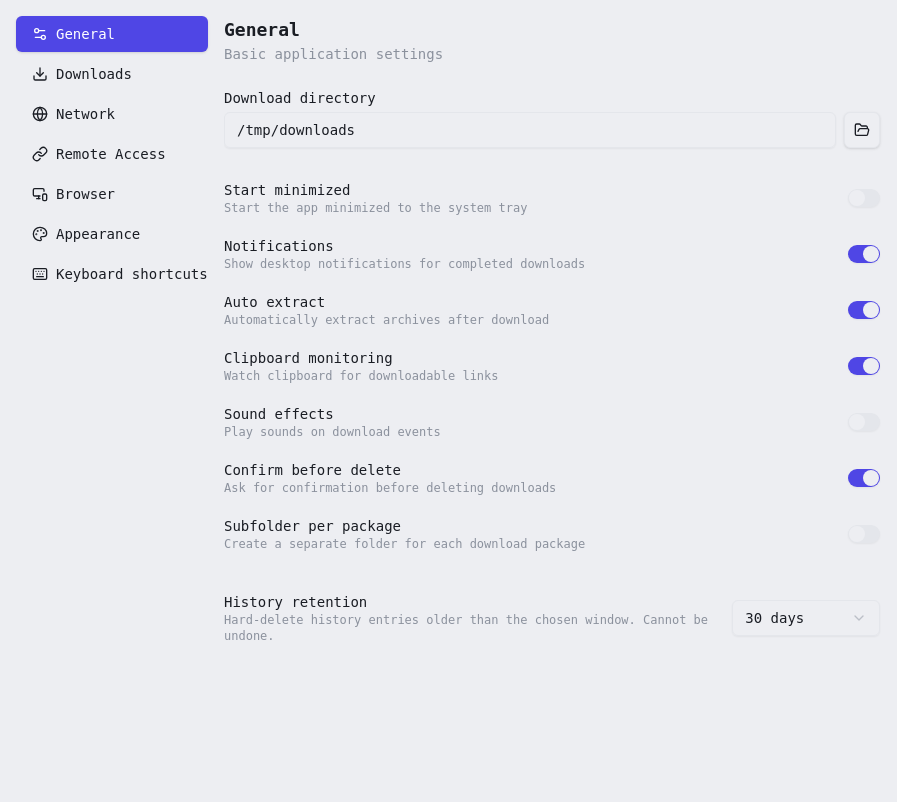
it: SettingsView › should switch to Downloads section when tab clicked
Expected: the button "General" is shown, [16,16,208,52]
What coordinates should you click on to do the following:
click the button "Downloads"
I would click on:
 (112, 74)
Its box is [16,56,208,92].
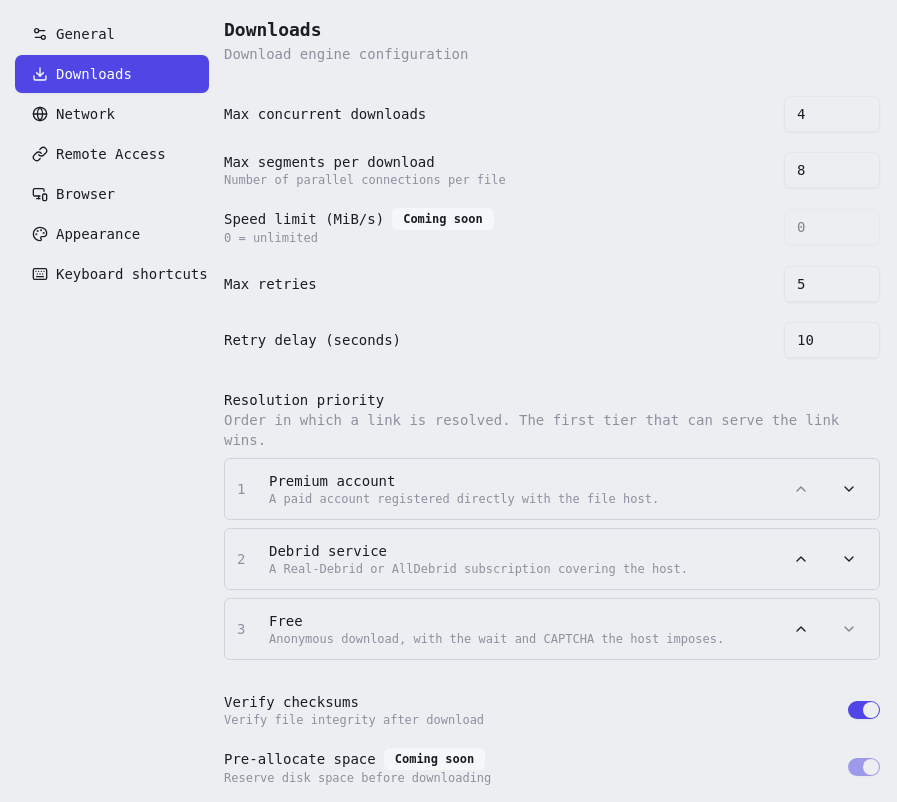
Expected: the text "Max concurrent downloads" is shown, [224,104,426,124]
Expected: the text "Max segments per download" is shown, [224,152,435,172]
